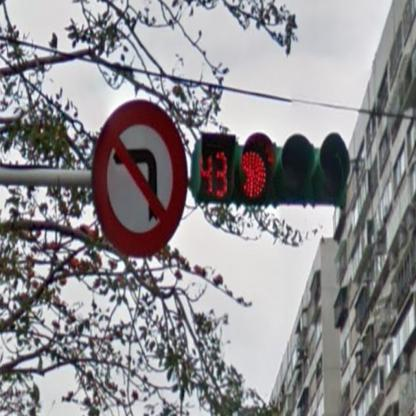Red Light: (196, 134, 352, 206)
